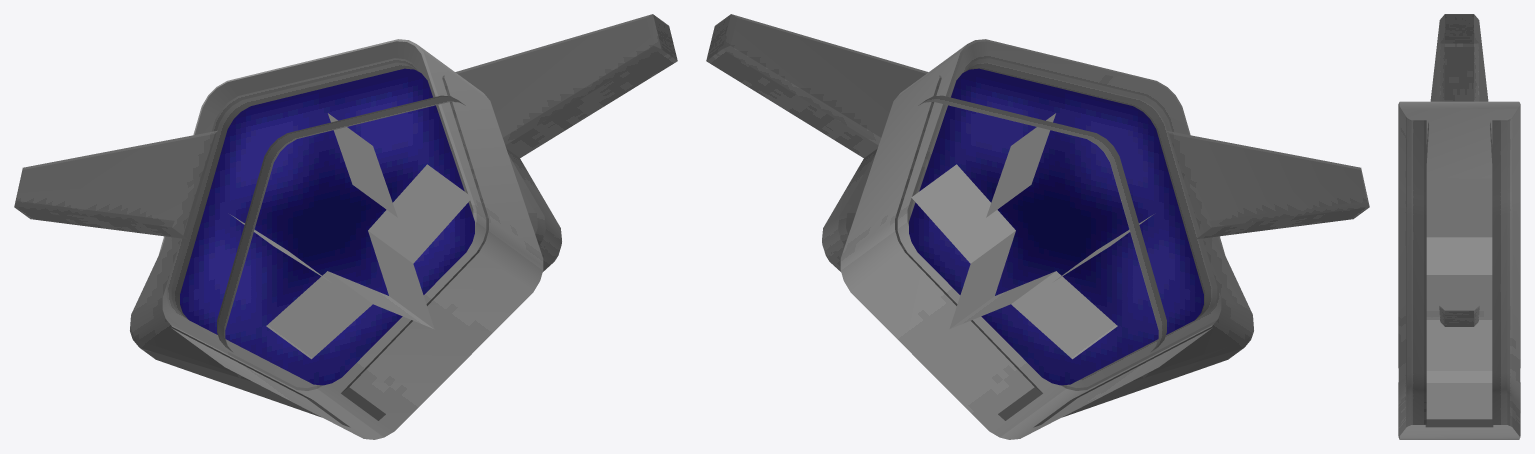
The model's file is ps2_save-icons_heatseeker.glb.
3 renders of one model, left to right at view 1: azimuth 30°, elevation 25°; view 2: azimuth 150°, elevation 25°; view 3: azimuth 270°, elevation 25°, orthographic. The views are drawn at different scales.
Visible parts, largest first — view 1: game.ico; view 2: game.ico; view 3: game.ico.
Boxes of the visible parts, x1,y1,x2,y2 form: game.ico: (14, 14, 677, 439); game.ico: (706, 14, 1369, 439); game.ico: (1398, 14, 1520, 439).
Size of the model in its own units: 4.9 by 2.39 by 0.895.
1 material, 1 textured.
